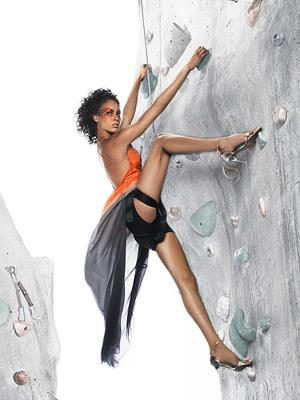person: (77, 48, 262, 370)
